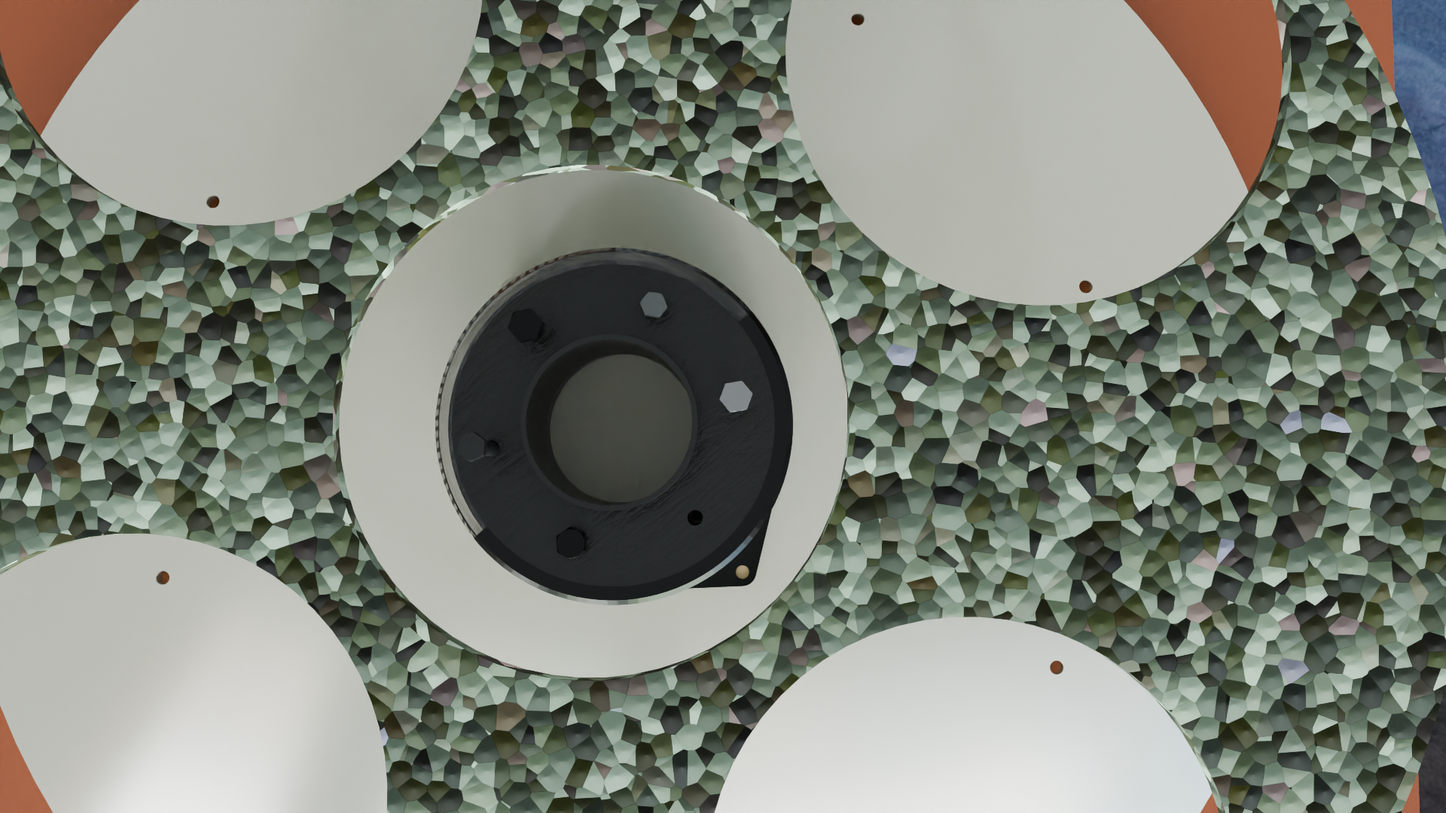bolt: (508, 308, 542, 342), (719, 381, 752, 413), (557, 527, 586, 559), (457, 431, 485, 461), (640, 291, 667, 317)
